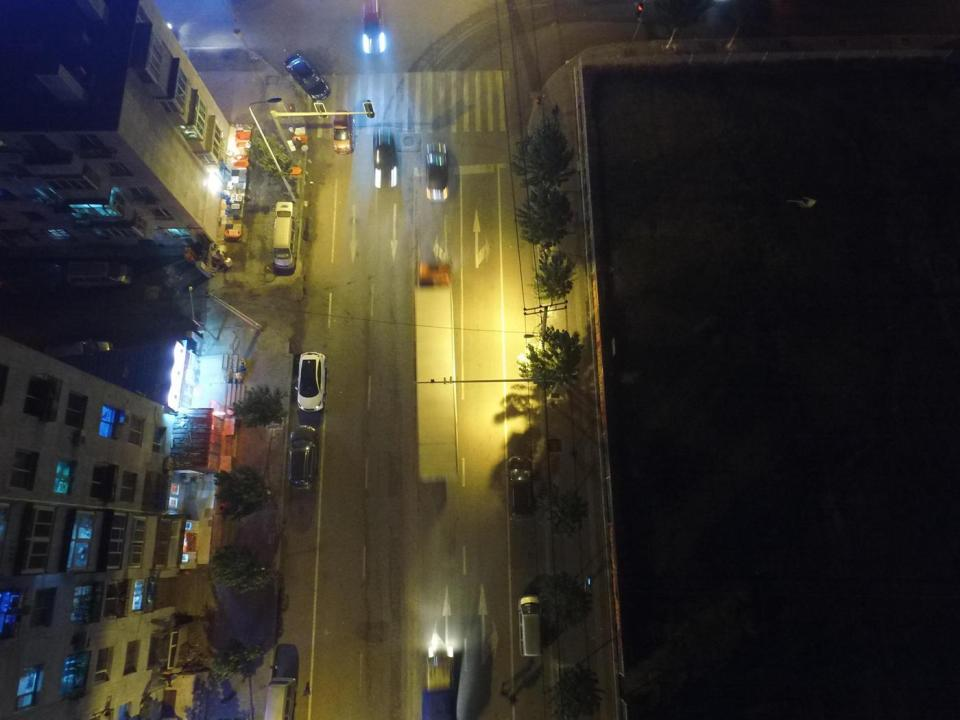car: (284, 54, 330, 102), (296, 352, 326, 411), (372, 130, 397, 189), (427, 143, 449, 202), (332, 109, 354, 154)
truck: (414, 262, 458, 481), (422, 655, 456, 720)
van: (287, 425, 318, 489), (42, 338, 114, 365), (1, 263, 61, 293), (506, 456, 534, 520), (67, 262, 133, 288), (273, 202, 298, 270), (518, 594, 541, 657), (266, 678, 296, 720), (362, 0, 384, 54)
